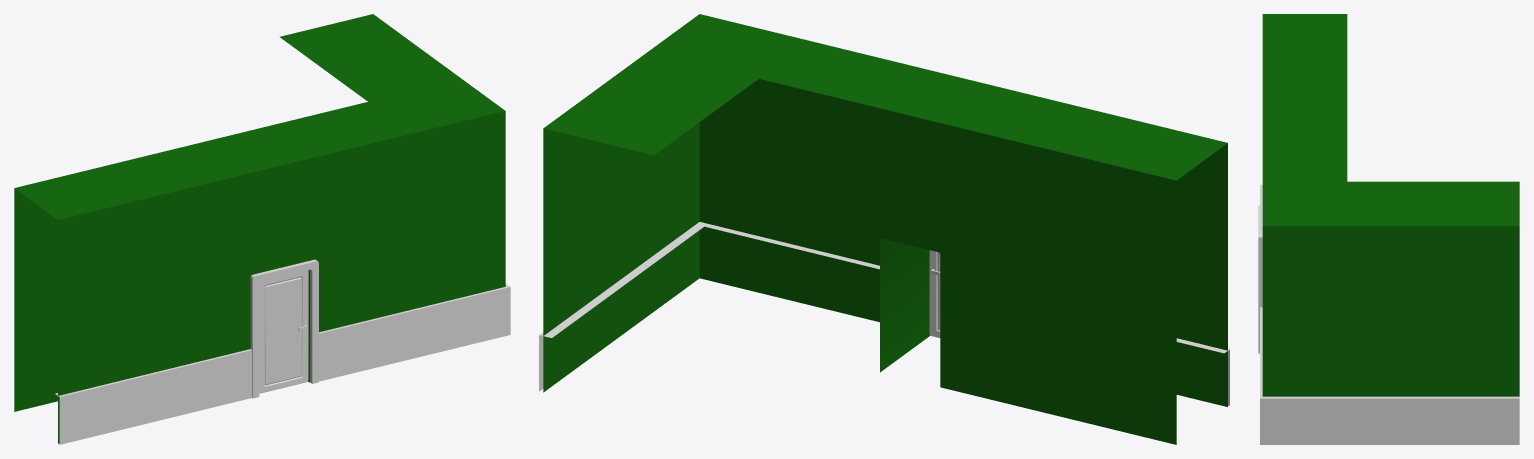
The model's file is wall_closed_corner_1.fbx.
The picture shows the model from 3 angles, left to right: view 1: azimuth 30°, elevation 25°; view 2: azimuth 150°, elevation 25°; view 3: azimuth 270°, elevation 25°; orthographic projection. The views are drawn at different scales.
Visible parts, largest first — view 1: wall_with_door.001, door.001; view 2: wall_with_door.001, door.001; view 3: wall_with_door.001.
Part boxes in pixels (bbox=[...]): wall_with_door.001: bbox=[14, 14, 510, 444]; door.001: bbox=[259, 270, 308, 393]; wall_with_door.001: bbox=[539, 14, 1229, 444]; door.001: bbox=[929, 250, 940, 338]; wall_with_door.001: bbox=[1258, 14, 1519, 444].
Size of the model in its own units: 12.5 by 5.93 by 6.46.
